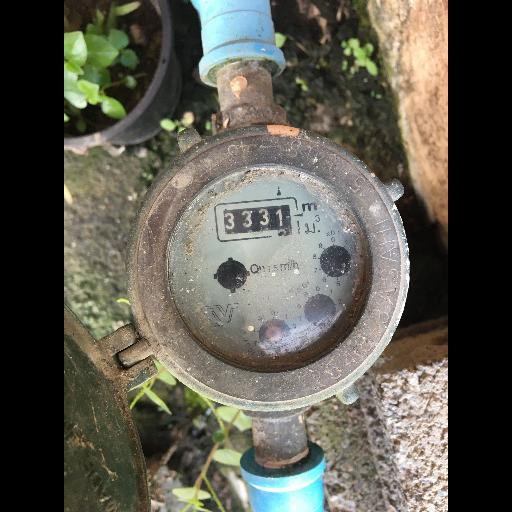1: (274, 204, 292, 237)
3: (257, 205, 274, 231), (239, 207, 255, 233), (224, 210, 239, 235)
border_water_meter_number: (214, 196, 300, 242)
